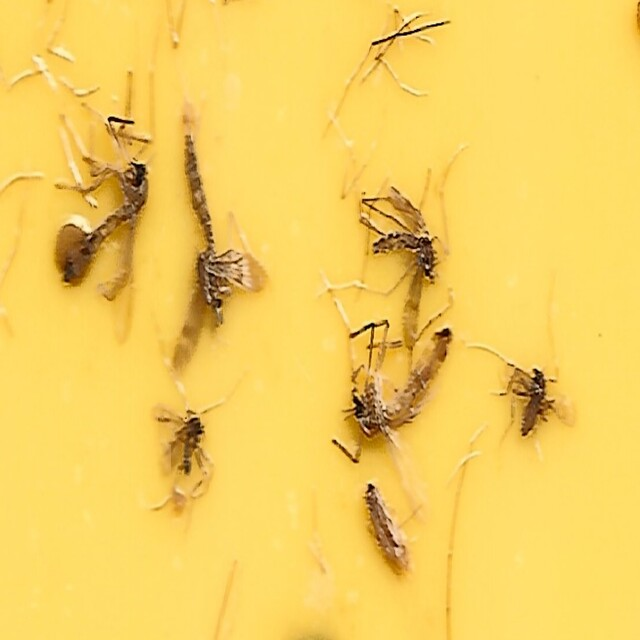Nematocera: (167, 111, 268, 383), (345, 321, 467, 529), (58, 116, 154, 346), (355, 176, 441, 360), (493, 342, 582, 461), (149, 403, 210, 483)
